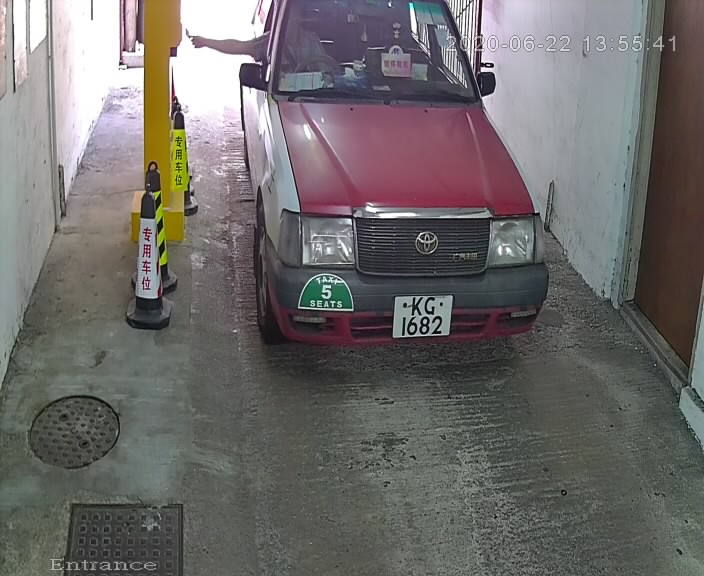taxi: (223, 2, 565, 373)
taxi_mark: (285, 258, 368, 323)
